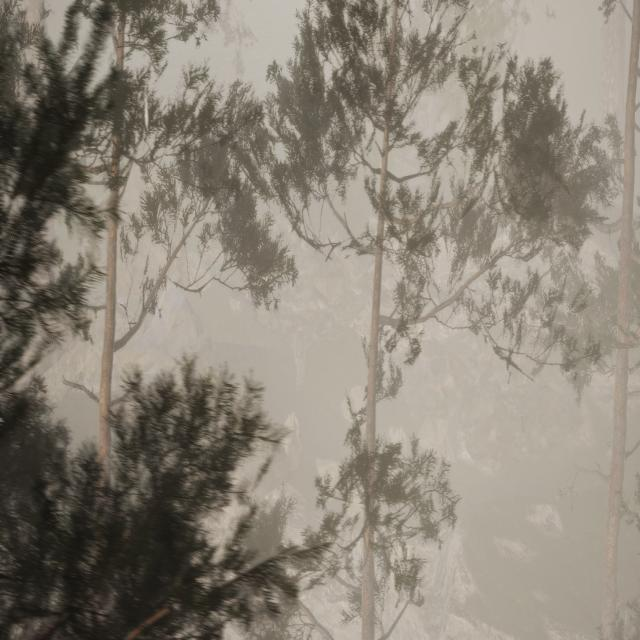Human: (287, 298, 313, 397)
